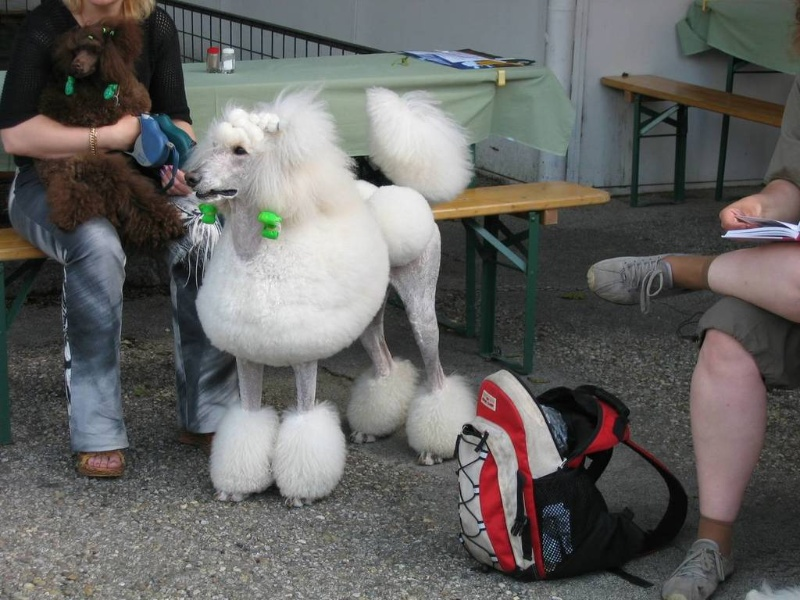dog: (180, 81, 481, 491), (45, 16, 184, 250)
